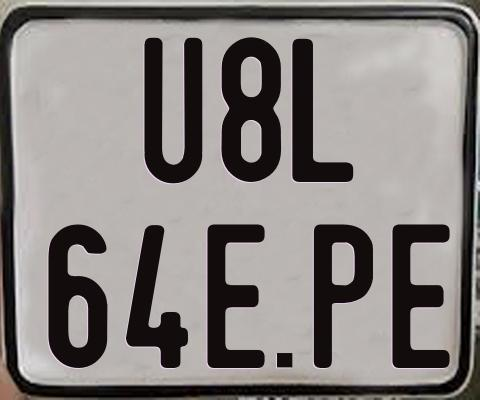4: (125, 225, 190, 372)
6: (47, 221, 111, 366)
8: (218, 36, 282, 181)
E: (205, 221, 267, 367), (392, 224, 450, 373)
L: (290, 39, 357, 186)
P: (312, 224, 376, 374)
U: (141, 36, 199, 183)
